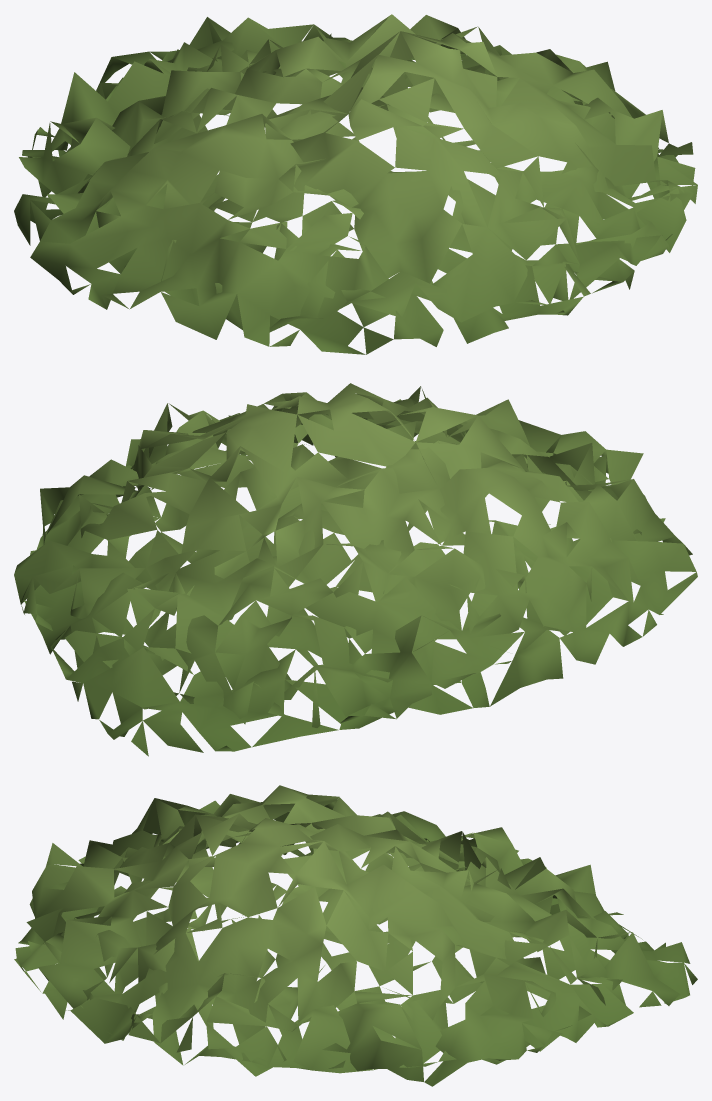
The model's file is Moss Patch B.glb.
3 renders of one model, top to bottom at view 1: azimuth 30°, elevation 25°; view 2: azimuth 150°, elevation 25°; view 3: azimuth 270°, elevation 25°, orthographic. The views are drawn at different scales.
Parts seen in each view (by area): view 1: Moss Patch B; view 2: Moss Patch B; view 3: Moss Patch B.
Boxes of the visible parts, left/top/right/bottom form: Moss Patch B: left=14, top=14, right=697, bottom=354; Moss Patch B: left=14, top=383, right=697, bottom=756; Moss Patch B: left=14, top=785, right=697, bottom=1086.
Size of the model in its own units: 0.4157 by 0.128 by 0.4705.
